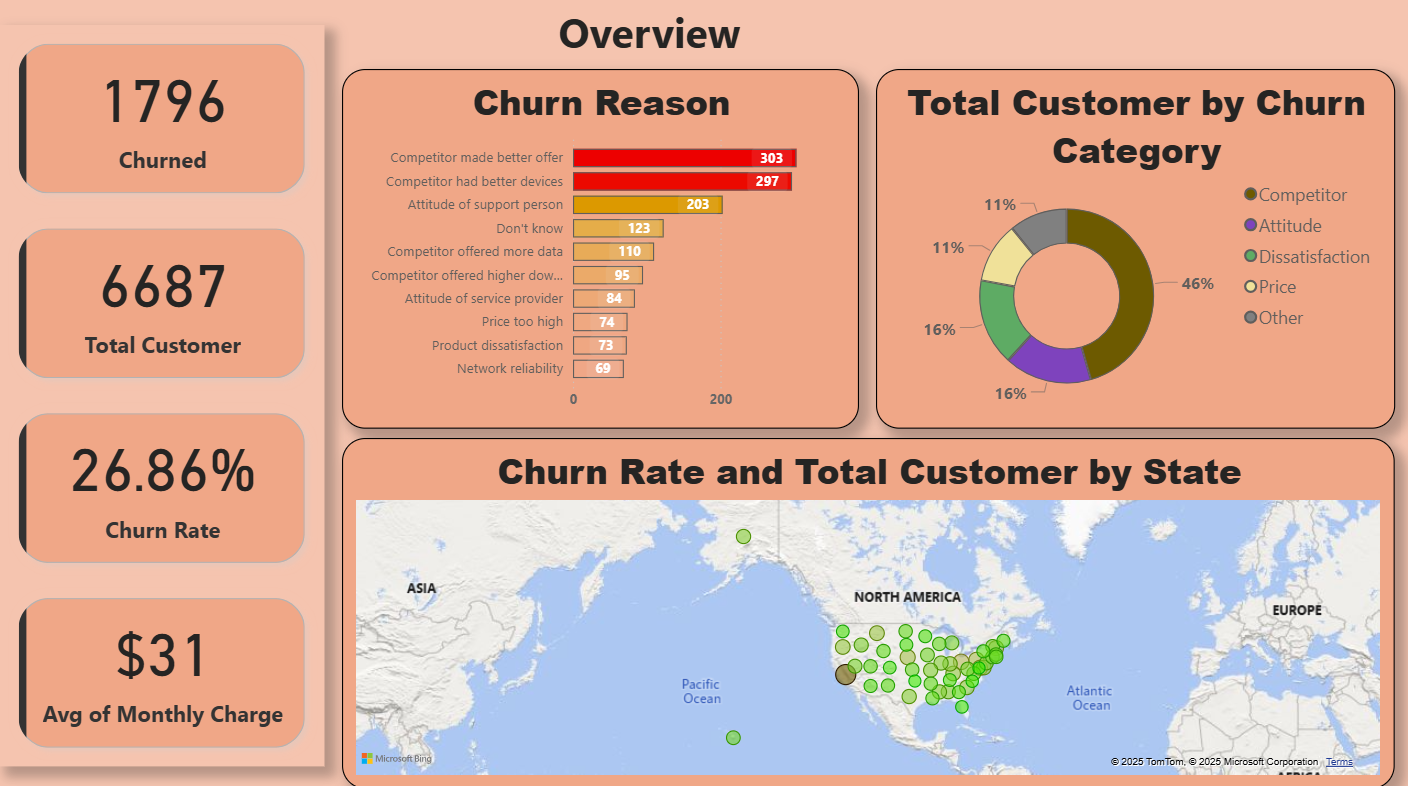

The page's visual inventory and layout, read from the dashboard file:
{"tool":"powerbi","page":{"name":"Overview","canvas":[1280,720],"ordinal":0},"visuals":[{"type":"cardVisual","fields":{"Data":["Databel - Data.No Of Churn","Databel - Data.Total Customer","Databel - Data.Churn Rate","Databel - Data.Avg of Monthly Charge"]},"box":[0,24.3,311.2,695.4],"z":0},{"type":"textbox","box":[502.9,0,181.9,64.2],"z":1000},{"type":"clusteredBarChart","title":"Churn Reason","fields":{"Y":["Databel - Data.Total Customer"],"Category":["Databel - Data.Churn Reason"]},"box":[311.2,85.6,469.8,326.8],"z":2000},{"type":"donutChart","fields":{"Category":["Databel - Data.Churn Category"],"Y":["Databel - Data.Total Customer"]},"box":[796.6,85.6,471.7,326.8],"z":3000},{"type":"map","fields":{"Category":["Databel - Data.State"],"Size":["Databel - Data.Churn Rate"]},"box":[311.2,425,957.1,293.7],"z":4000}]}

Visuals, with their boxes in screenshot pixels (x1, y1, x2, y2), scaled from the page's 1280x720 canvas onto the 1408x786 screenshot:
cardVisual - Databel - Data.No Of Churn x Databel - Data.Total Customer: select_region(0, 27, 342, 785)
textbox: select_region(553, 0, 753, 70)
"Churn Reason" clusteredBarChart: select_region(342, 93, 859, 450)
donutChart - Databel - Data.Churn Category x Databel - Data.Total Customer: select_region(876, 93, 1395, 450)
map - Databel - Data.State x Databel - Data.Churn Rate: select_region(342, 464, 1395, 785)
